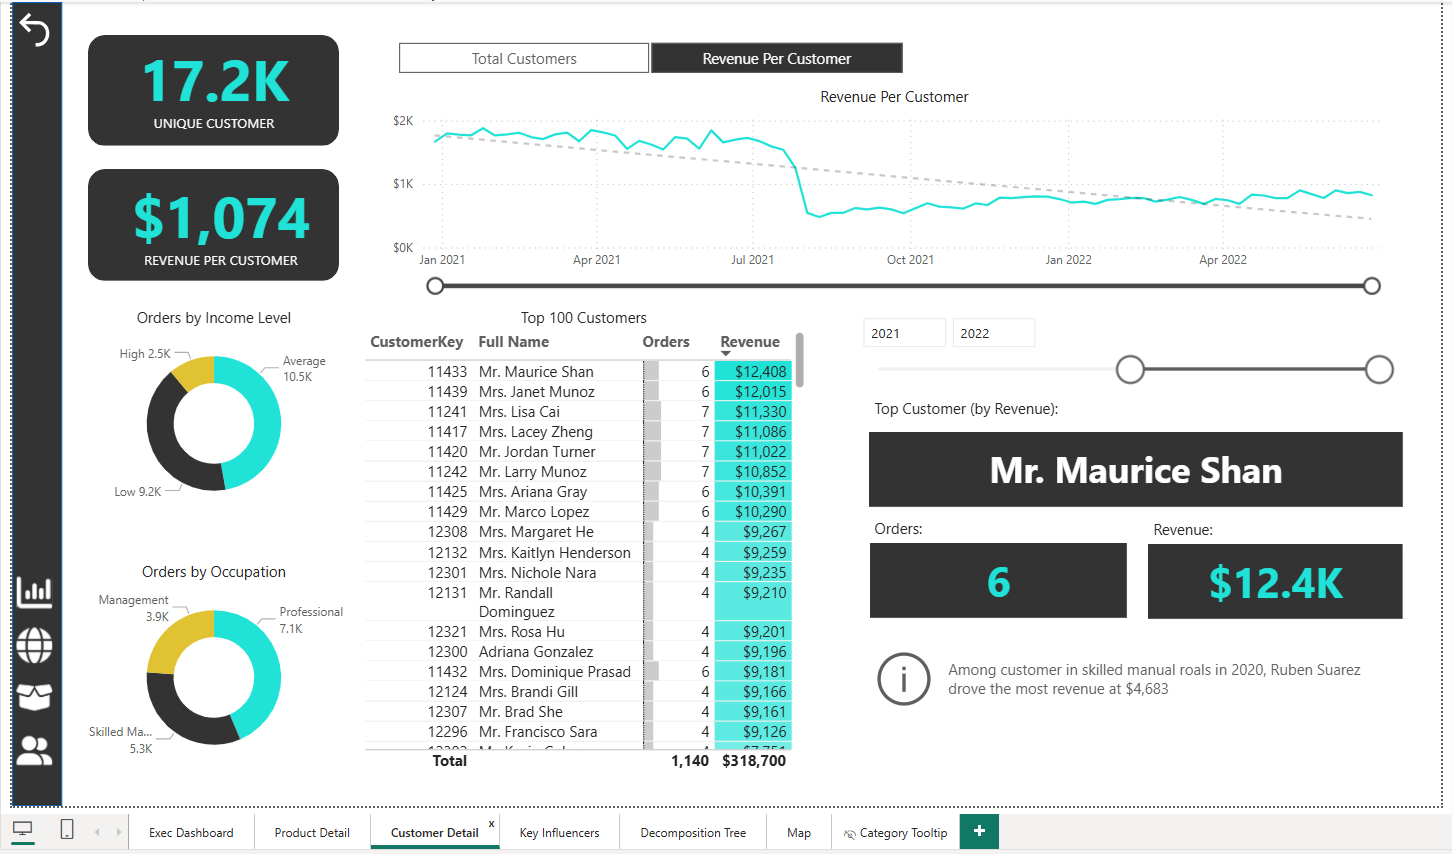

This screenshot's page, from the dashboard's own definition file:
{"tool":"powerbi","page":{"name":"Customer Detail","canvas":[1280,720],"ordinal":2},"visuals":[{"type":"shape","box":[0,0,44.9,720.3],"z":0},{"type":"actionButton","box":[0,508.7,44.8,40.3],"z":0,"group":"g1"},{"type":"shape","title":"Revenue Shape","box":[68.1,29.6,224.8,99.4],"z":1000},{"type":"actionButton","box":[0,603,44.8,40.3],"z":1000,"group":"g1"},{"type":"card","title":"Revenue","fields":{"Values":["Measure Table.Total Customers"]},"box":[52.8,0,256.1,150.4],"z":2000},{"type":"actionButton","box":[0,555.9,44.8,40.3],"z":2000,"group":"g1"},{"type":"shape","title":"Profit Shape","box":[68.1,149.6,224.8,100.3],"z":3000},{"type":"actionButton","box":[0,650.2,44.8,40.3],"z":3000,"group":"g1"},{"type":"card","title":"Profit","fields":{"Values":["Measure Table.Average Revenue Per Customer"]},"box":[59.1,122.7,256.1,150.4],"z":4000},{"type":"lineChart","fields":{"Category":["Calendar Lookup.Date Hierarchy.Start of Year","Calendar Lookup.Date Hierarchy.Start of Month","Calendar Lookup.Date Hierarchy.Start of Week","Calendar Lookup.Date Hierarchy.Date"],"Y":["Measure Table.Average Revenue Per Customer"]},"box":[336.2,74.8,908.9,189.6],"z":5000},{"type":"donutChart","title":"Orders by Income Level","fields":{"Category":["Customer Lookup.Income Level"],"Y":["Measure Table.Total Orders"]},"box":[58.9,273.4,243.4,191.6],"z":6000},{"type":"donutChart","title":"Orders by Occupation","fields":{"Category":["Customer Lookup.Occupation"],"Y":["Measure Table.Total Orders"]},"box":[58.9,500.8,243.4,191.6],"z":7000},{"type":"tableEx","title":"Top 100 Customers","fields":{"Values":["Customer Lookup.CustomerKey","Customer Lookup.Full Name","Measure Table.Total Orders","Measure Table.Total Revenue"]},"box":[309.9,273.1,404.8,419.1],"z":8000},{"type":"card","fields":{"Values":["Customer Lookup.Full Name (Customer Details)"]},"box":[767.3,385.5,478.2,67.3],"z":9000},{"type":"textbox","box":[767.5,350.1,276.7,36.7],"z":10000},{"type":"card","fields":{"Values":["Measure Table.Total Orders (Customer Details)"]},"box":[768.2,484.5,230,67.3],"z":11000},{"type":"textbox","box":[767.8,457.8,137.7,26.9],"z":12000},{"type":"card","fields":{"Values":["Measure Table.Total Revenue (Customer Details)"]},"box":[1017.3,485.5,228.2,67.3],"z":13000},{"type":"textbox","box":[1017,458.7,147.7,26.9],"z":14000},{"type":"slicer","fields":{"Values":["Calendar Lookup.Year"]},"box":[750,272.7,495.5,77.3],"z":15000},{"type":"actionButton","box":[768.4,575.8,477.3,60.9],"z":16000},{"type":"actionButton","box":[0,4.5,44.8,40.3],"z":17000},{"type":"group","id":"g1","title":"Navigation Buttons","box":[0,508.7,44.8,181.8],"z":18000},{"type":"slicer","fields":{"Values":["Customer Metric Selection.Customer Metric Selection"]},"box":[320.6,29.6,500.6,38.5],"z":19000}]}

Visuals, with their boxes on the page's 1280x720 design canvas (x1, y1, x2, y2). These are canvas units, not pixel positions in the 1453x855 screenshot, which may show the page scaled, cropped or inside an application window:
shape: region(0, 0, 45, 720)
actionButton: region(0, 509, 45, 549)
"Revenue Shape" shape: region(68, 30, 293, 129)
actionButton: region(0, 603, 45, 643)
"Revenue" card: region(53, 0, 309, 150)
actionButton: region(0, 556, 45, 596)
"Profit Shape" shape: region(68, 150, 293, 250)
actionButton: region(0, 650, 45, 690)
"Profit" card: region(59, 123, 315, 273)
lineChart - Calendar Lookup.Date Hierarchy.Start of Year x Calendar Lookup.Date Hierarchy.Start of Month: region(336, 75, 1245, 264)
"Orders by Income Level" donutChart: region(59, 273, 302, 465)
"Orders by Occupation" donutChart: region(59, 501, 302, 692)
"Top 100 Customers" tableEx: region(310, 273, 715, 692)
card - Customer Lookup.Full Name (Customer Details): region(767, 386, 1246, 453)
textbox: region(768, 350, 1044, 387)
card - Measure Table.Total Orders (Customer Details): region(768, 484, 998, 552)
textbox: region(768, 458, 906, 485)
card - Measure Table.Total Revenue (Customer Details): region(1017, 486, 1246, 553)
textbox: region(1017, 459, 1165, 486)
slicer - Calendar Lookup.Year: region(750, 273, 1246, 350)
actionButton: region(768, 576, 1246, 637)
actionButton: region(0, 4, 45, 45)
"Navigation Buttons" group: region(0, 509, 45, 690)
slicer - Customer Metric Selection.Customer Metric Selection: region(321, 30, 821, 68)
